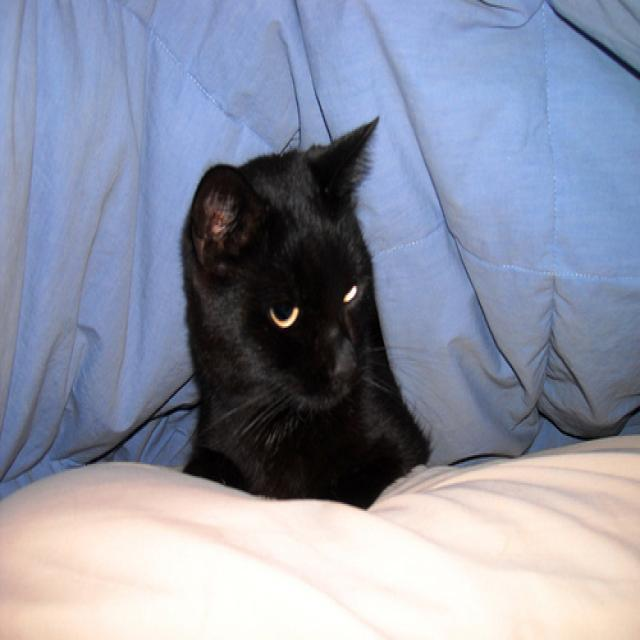Bombay: (179, 114, 393, 426)
